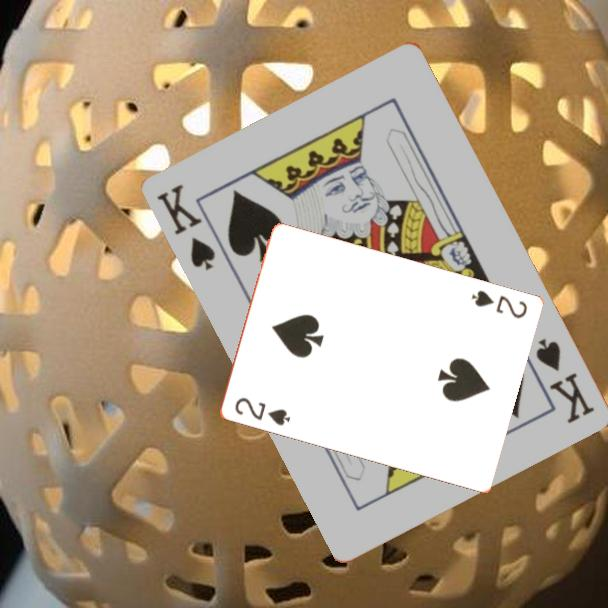s02: (467, 287, 530, 322), (231, 394, 293, 429)
s13: (154, 180, 219, 274), (532, 335, 598, 427)
